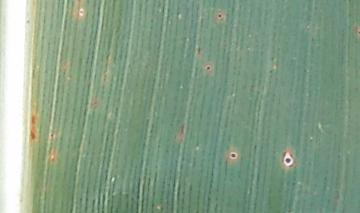tarspot: (279, 148, 298, 170), (226, 149, 240, 162), (200, 62, 215, 74), (76, 6, 87, 18), (215, 10, 225, 23)
